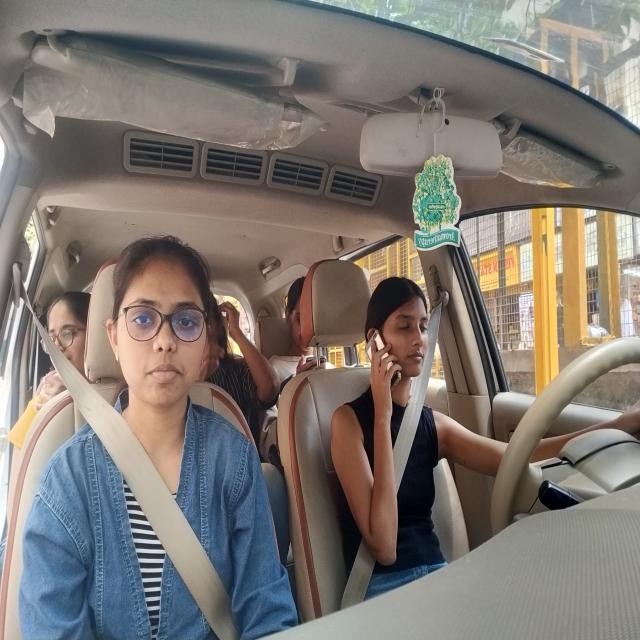mobile: (364, 329, 404, 386)
person: (106, 238, 212, 410), (363, 279, 430, 385), (39, 295, 88, 381), (283, 276, 317, 353)
